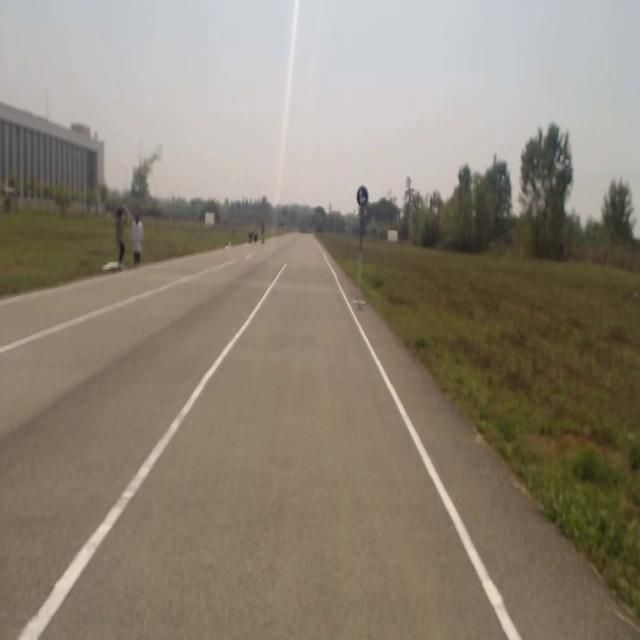ilerisag: (356, 185, 368, 207)
